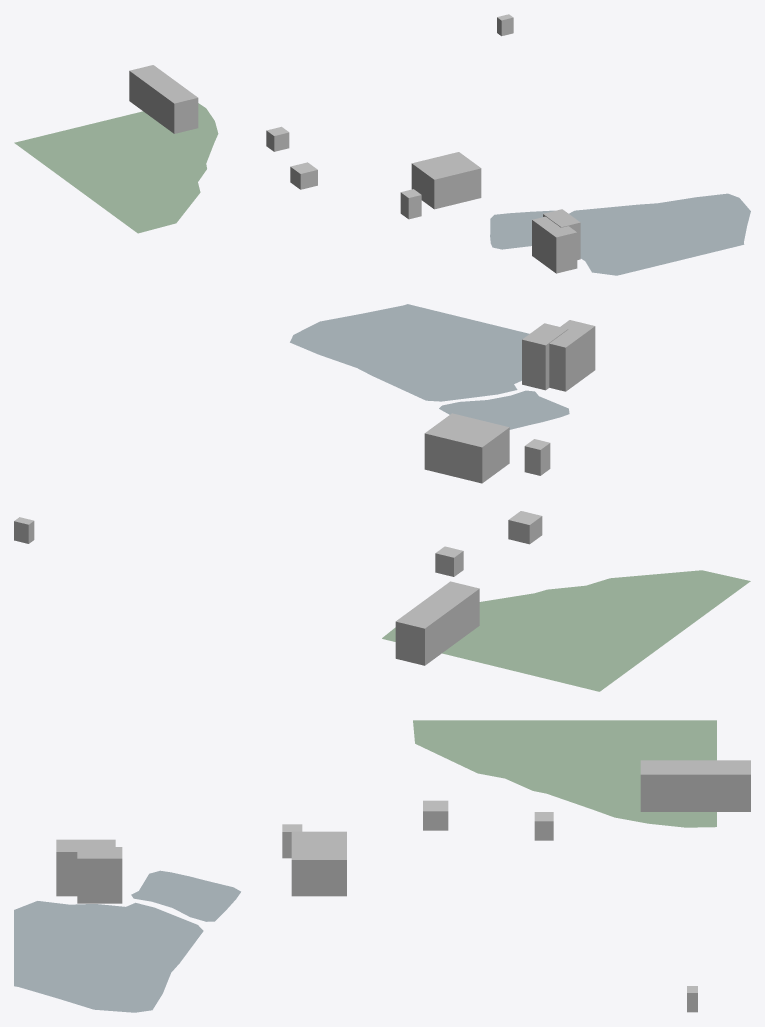
Rendered from 140_115_mid.glb.
3 renders of one model, top to bottom at view 1: azimuth 30°, elevation 25°; view 2: azimuth 150°, elevation 25°; view 3: azimuth 270°, elevation 25°, orthographic. The views are drawn at different scales.
Size of the model in its own units: 492 by 35.57 by 524.
